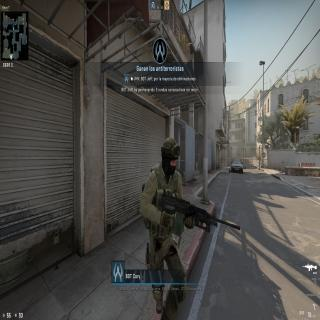CT-Head: (160, 132, 180, 180)
